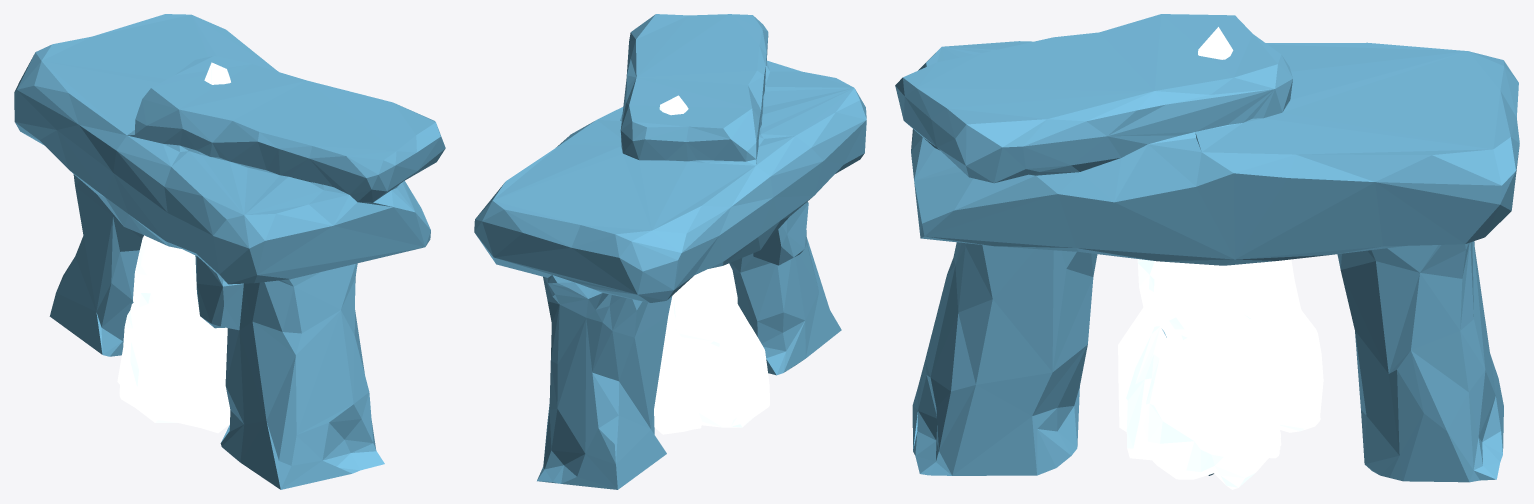
Rendered from obstacles.fbx.
3 views of the same model, side by side, from view 1: azimuth 30°, elevation 25°; view 2: azimuth 150°, elevation 25°; view 3: azimuth 270°, elevation 25° (orthographic). The views are drawn at different scales.
Parts seen in each view (by area): view 1: obstacles_5, obstacles_2; view 2: obstacles_5, obstacles_2; view 3: obstacles_5, obstacles_2.
Boxes of the visible parts, box(x1,y1,x2,y2) form: obstacles_5: box(14, 14, 445, 489); obstacles_2: box(117, 62, 230, 433); obstacles_5: box(474, 14, 866, 489); obstacles_2: box(654, 95, 769, 434); obstacles_5: box(895, 14, 1519, 482); obstacles_2: box(1118, 27, 1323, 489).
Bounding box in the file's own units: 292 × 401 × 530.
